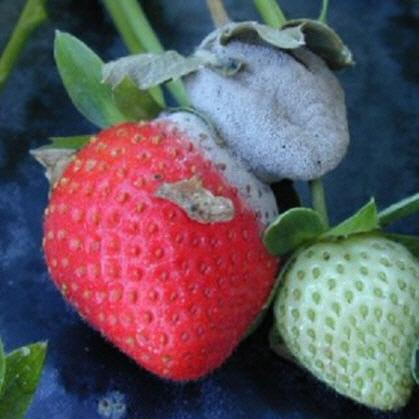Gray Mold: (100, 16, 359, 184), (129, 107, 280, 235)
